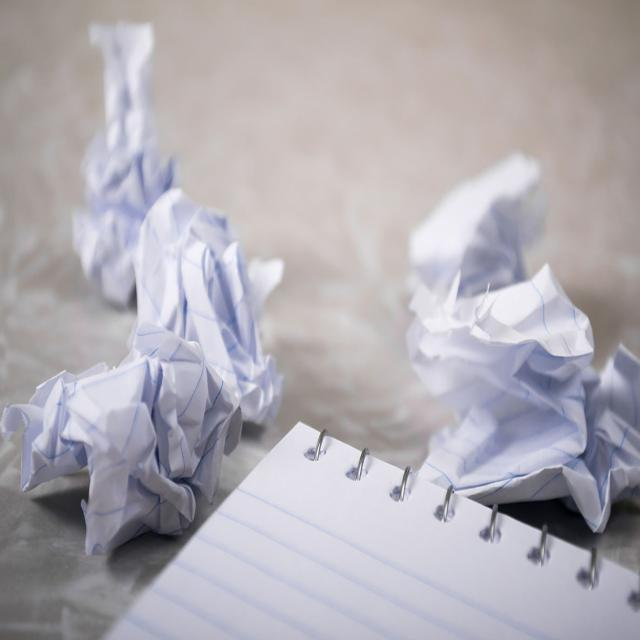Kertas: (414, 137, 632, 535), (14, 302, 243, 530), (130, 179, 302, 413), (72, 21, 174, 278)
